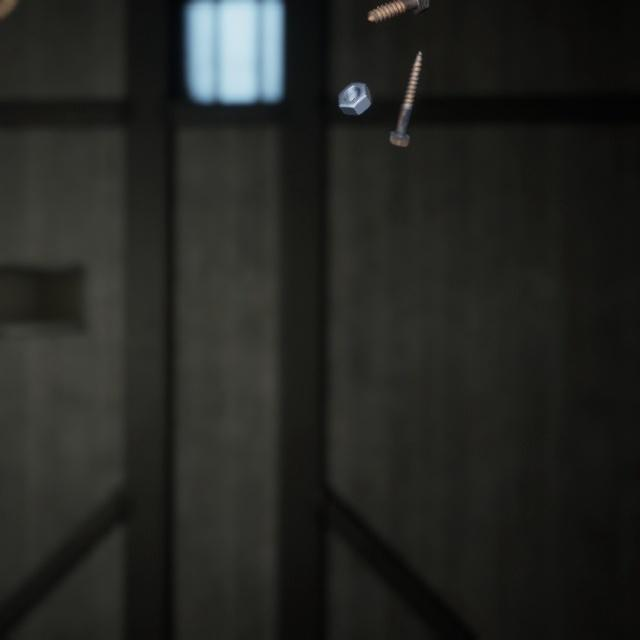bolt: (383, 36, 426, 140), (363, 0, 433, 22)
nut: (335, 67, 377, 108)
